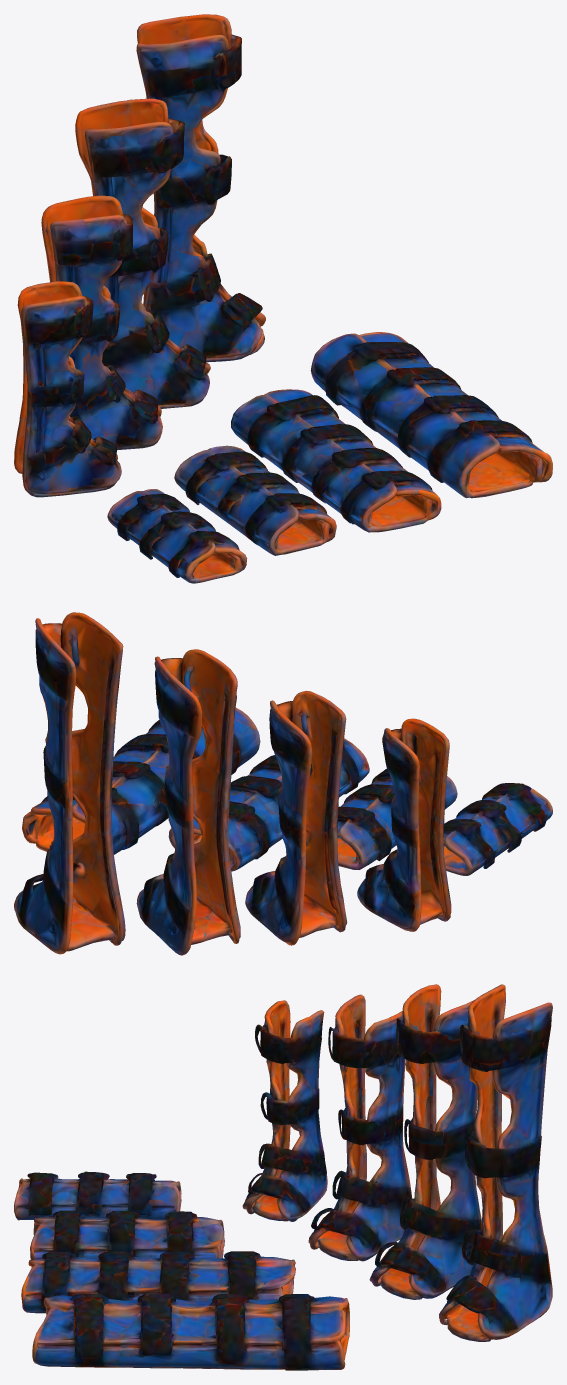
The model's file is limb_splint_set.glb.
3 views of the same model, one above another, from view 1: azimuth 30°, elevation 25°; view 2: azimuth 150°, elevation 25°; view 3: azimuth 270°, elevation 25° (orthographic). The views are drawn at different scales.
Parts seen in each view (by area): view 1: Mesh_0.001; view 2: Mesh_0.001; view 3: Mesh_0.001.
Part boxes in pixels (x1=…): Mesh_0.001: x1=14, y1=14, x2=552, y2=583; Mesh_0.001: x1=14, y1=612, x2=552, y2=955; Mesh_0.001: x1=14, y1=984, x2=552, y2=1370.
Bounding box in the file's own units: 0.5313 × 0.3997 × 0.6155.
1 material, 1 textured.
